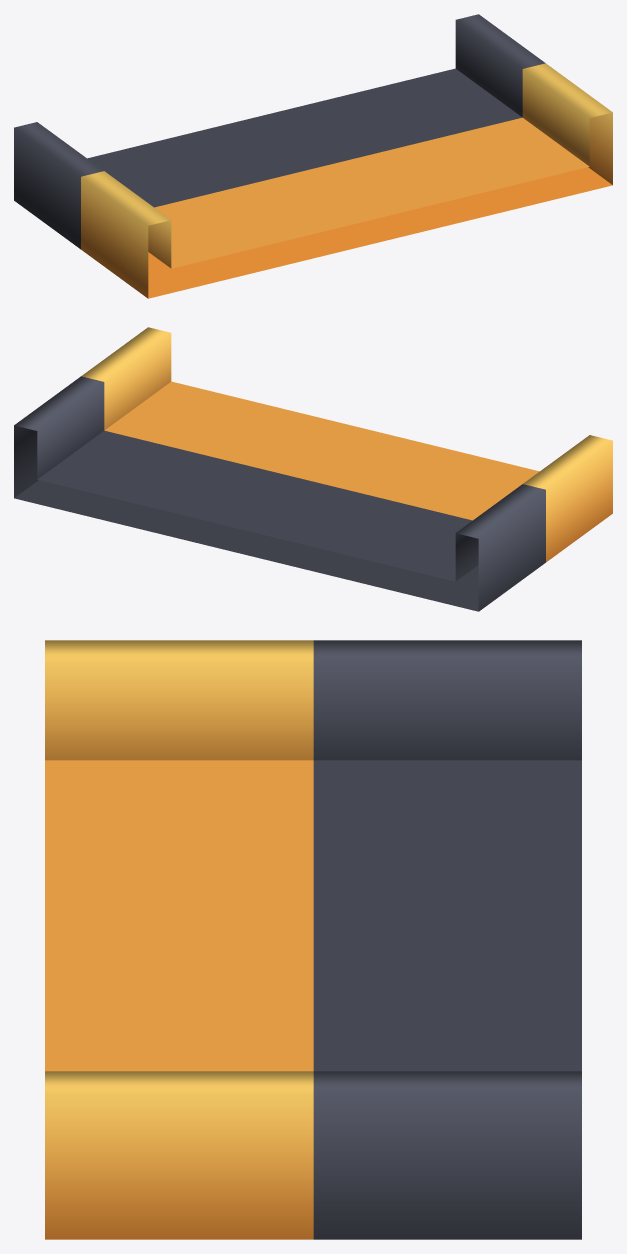
File: track-striped-wide.fbx
3 views of the same model, one above another, from view 1: azimuth 30°, elevation 25°; view 2: azimuth 150°, elevation 25°; view 3: azimuth 270°, elevation 25° (orthographic). The views are drawn at different scales.
Visible parts, largest first — view 1: track-striped-wide; view 2: track-striped-wide; view 3: track-striped-wide.
Part boxes in pixels (x1,y1,x2,y2): track-striped-wide: (14,14,612,298); track-striped-wide: (14,327,612,611); track-striped-wide: (45,640,581,1239).
Bounding box in the file's own units: 200 × 30 × 100.
